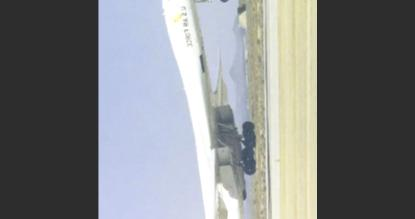AV8B: (161, 0, 259, 218)
